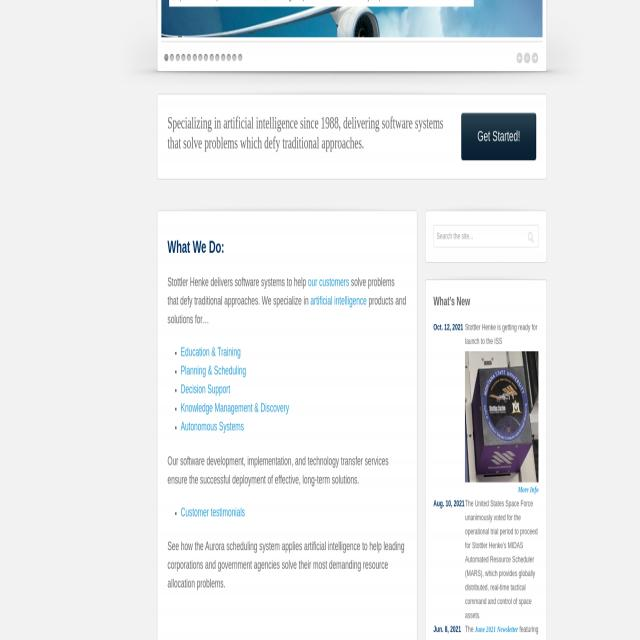button: (465, 348, 539, 480), (462, 110, 536, 158)
field: (436, 227, 502, 239), (528, 229, 534, 240)
